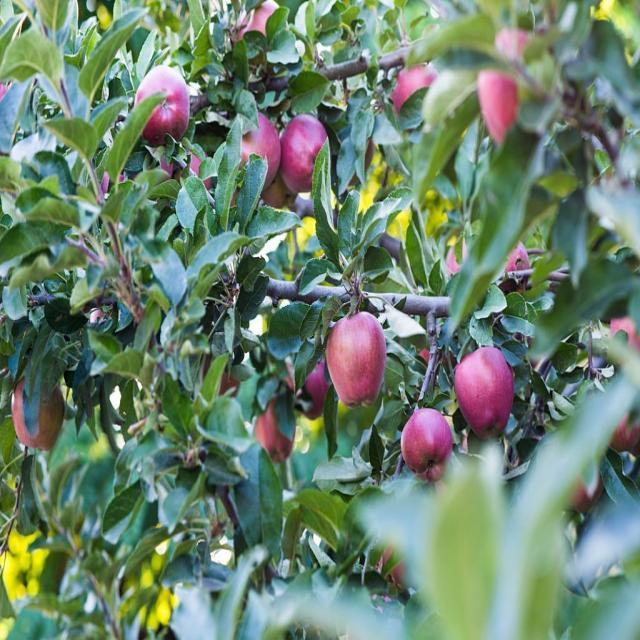Red Apple: (483, 34, 538, 133), (327, 315, 387, 405), (459, 347, 515, 435), (13, 377, 63, 447), (141, 72, 191, 134), (404, 406, 449, 474), (286, 119, 329, 185), (237, 120, 277, 177), (396, 64, 435, 121), (260, 398, 298, 455), (298, 363, 332, 413), (507, 249, 533, 298)
